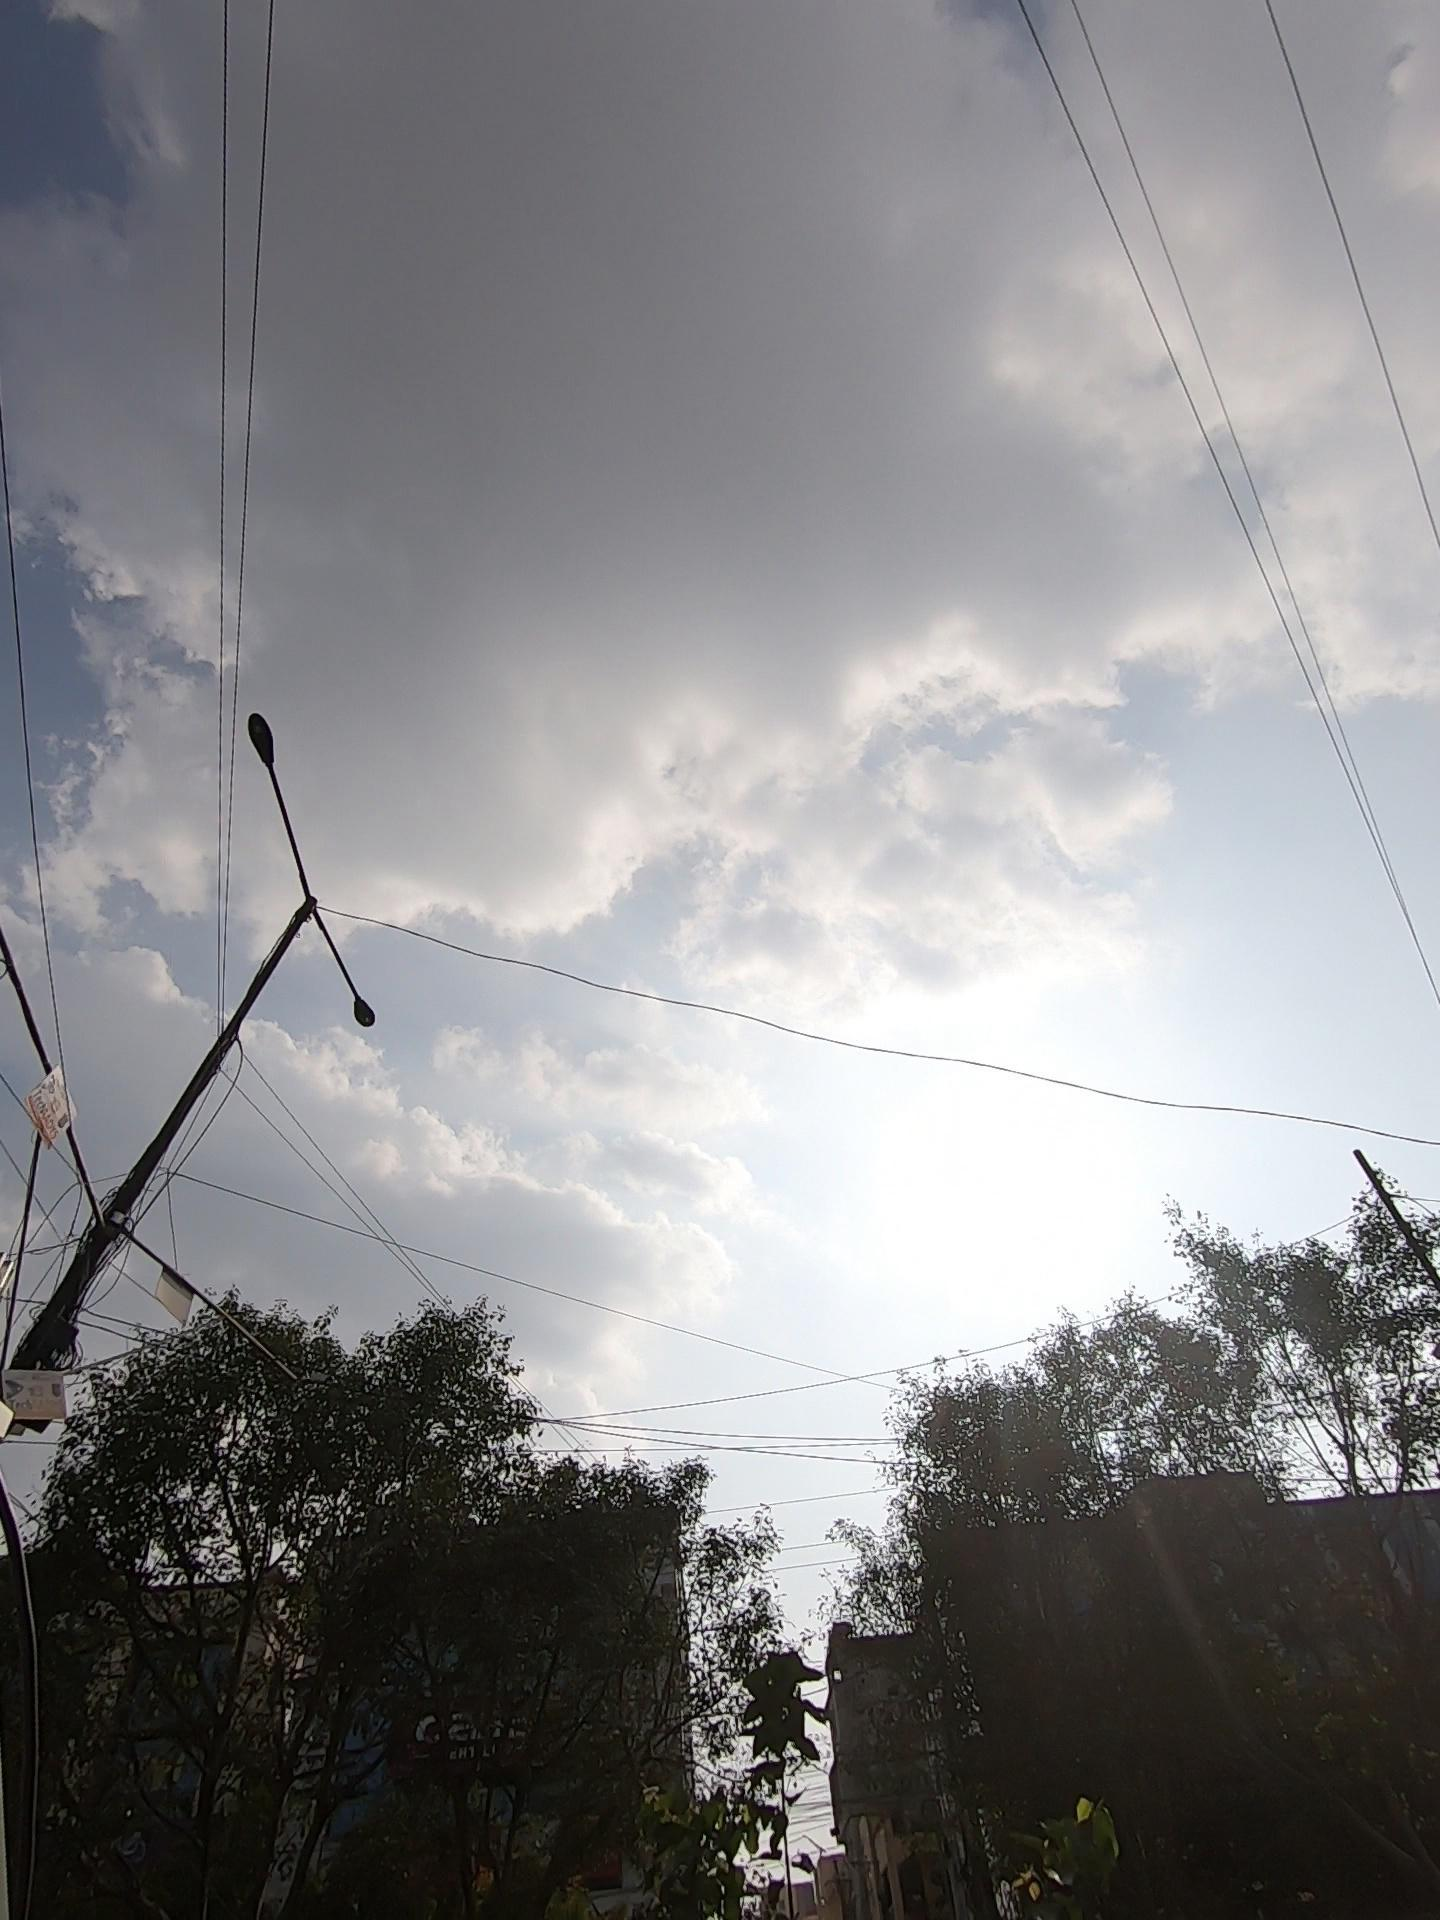off: (175, 661, 511, 1072)
